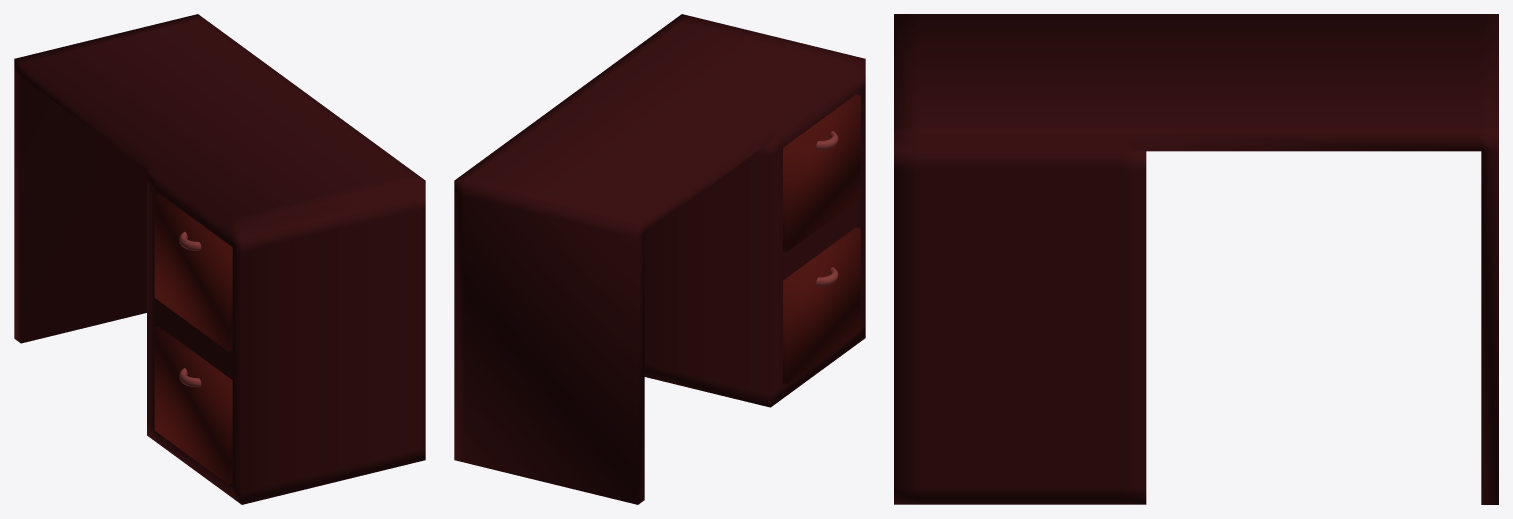
The model's file is LBSR_Desk.fbx.
The picture shows the model from 3 angles, left to right: view 1: azimuth 30°, elevation 25°; view 2: azimuth 150°, elevation 25°; view 3: azimuth 270°, elevation 25°; orthographic projection. The views are drawn at different scales.
Visible parts, largest first — view 1: desk, drawer1, drawer2; view 2: desk, drawer2, drawer1; view 3: desk.
Part boxes in pixels (box(x1,y1,x2,y2)): desk: box(14, 14, 425, 504); drawer1: box(154, 193, 232, 351); drawer2: box(154, 326, 232, 484); desk: box(454, 14, 865, 504); drawer2: box(783, 227, 860, 384); drawer1: box(783, 94, 860, 251); desk: box(894, 14, 1498, 504).
Bounding box in the file's own units: 2.72 × 3.66 × 5.39.
